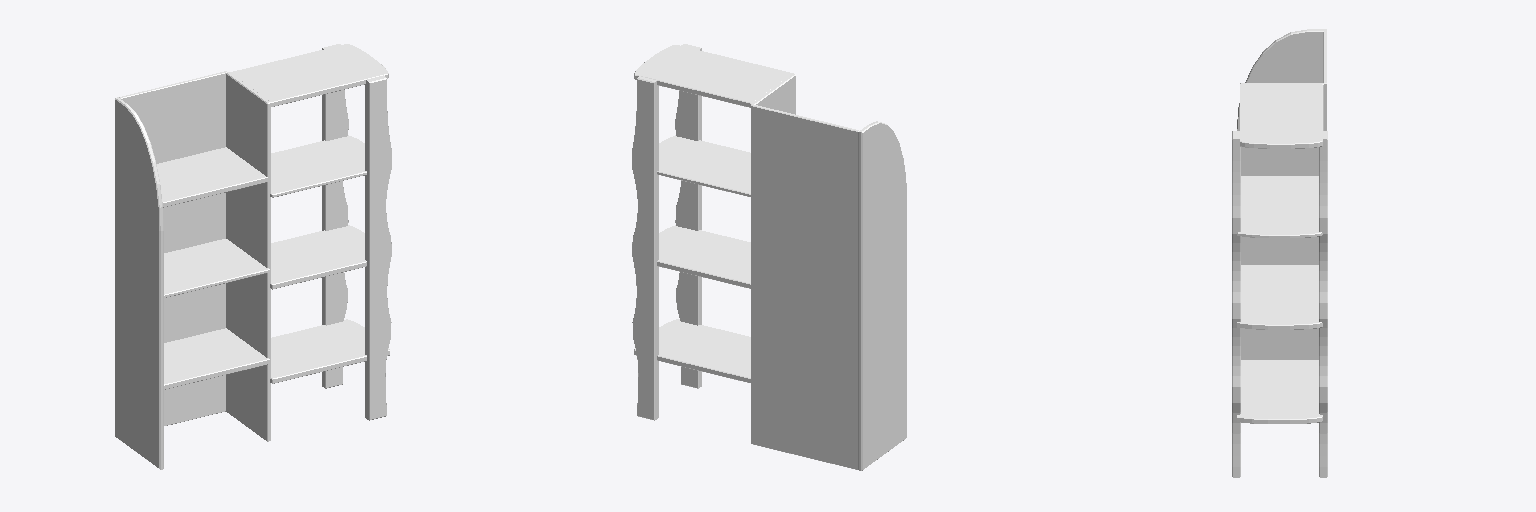
Rendered from shelf.obj.
3 renders of one model, left to right at view 1: azimuth 30°, elevation 25°; view 2: azimuth 150°, elevation 25°; view 3: azimuth 270°, elevation 25°, orthographic.
Parts seen in each view (by area): view 1: shelf; view 2: shelf; view 3: shelf.
Boxes of the visible parts, x1=… form: shelf: x1=115, y1=44, x2=391, y2=469; shelf: x1=632, y1=44, x2=906, y2=470; shelf: x1=1232, y1=29, x2=1327, y2=477.
Size of the model in its own units: 1.96 by 2.69 by 0.6887.